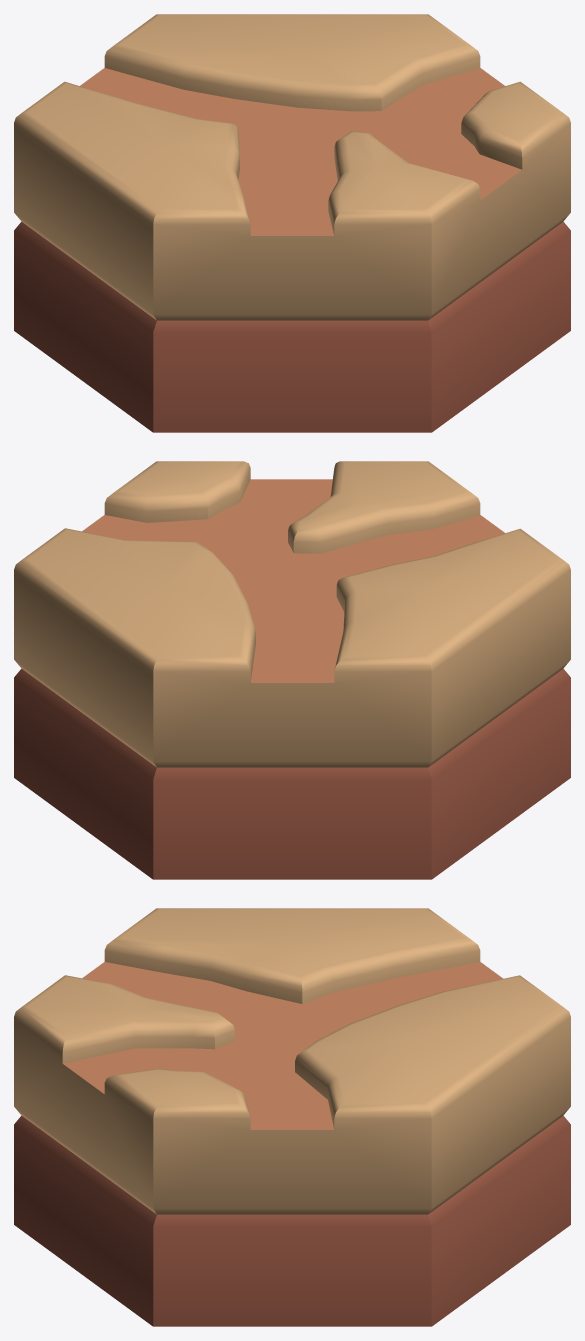
File: hex_sand_roadI_detail.glb
3 views of the same model, one above another, from view 1: azimuth 30°, elevation 25°; view 2: azimuth 150°, elevation 25°; view 3: azimuth 270°, elevation 25° (orthographic).
Parts seen in each view (by area): view 1: hex_sand_roadI_detail; view 2: hex_sand_roadI_detail; view 3: hex_sand_roadI_detail.
Part boxes in pixels (x1,y1,x2,y2): hex_sand_roadI_detail: (14, 14, 570, 432); hex_sand_roadI_detail: (14, 461, 570, 879); hex_sand_roadI_detail: (14, 908, 570, 1326).
Bounding box in the file's own units: 2 × 1 × 2.31.
